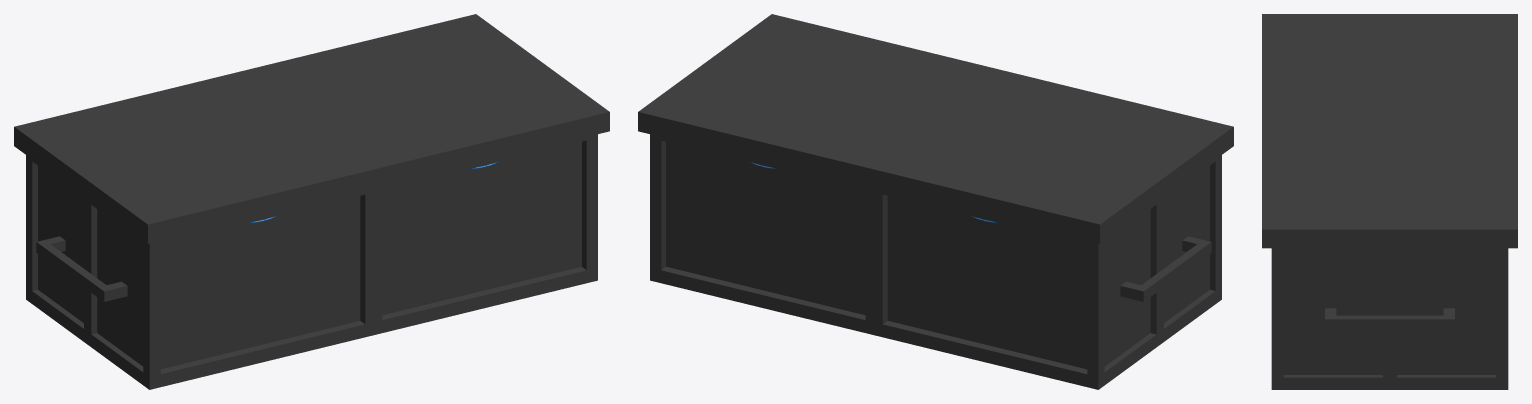
The model's file is Crate4.fbx.
3 views of the same model, side by side, from view 1: azimuth 30°, elevation 25°; view 2: azimuth 150°, elevation 25°; view 3: azimuth 270°, elevation 25° (orthographic). The views are drawn at different scales.
Visible parts, largest first — view 1: Cube.005; view 2: Cube.005; view 3: Cube.005.
Part boxes in pixels (<box>): Cube.005: <box>14,14,609,389</box>; Cube.005: <box>638,14,1233,389</box>; Cube.005: <box>1262,14,1517,389</box>.
Bounding box in the file's own units: 288 × 97.32 × 138.
